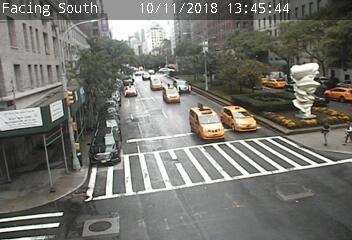car: (89, 127, 120, 166), (190, 106, 224, 141), (220, 105, 257, 133), (324, 87, 352, 101), (163, 85, 179, 103), (285, 80, 307, 92), (173, 79, 191, 93), (263, 78, 287, 88), (150, 77, 163, 91), (124, 85, 137, 97)
